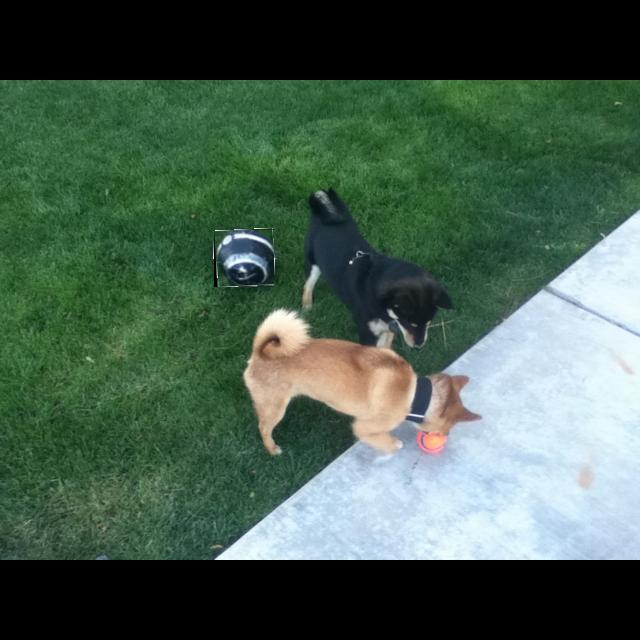Football: (214, 229, 274, 287)
